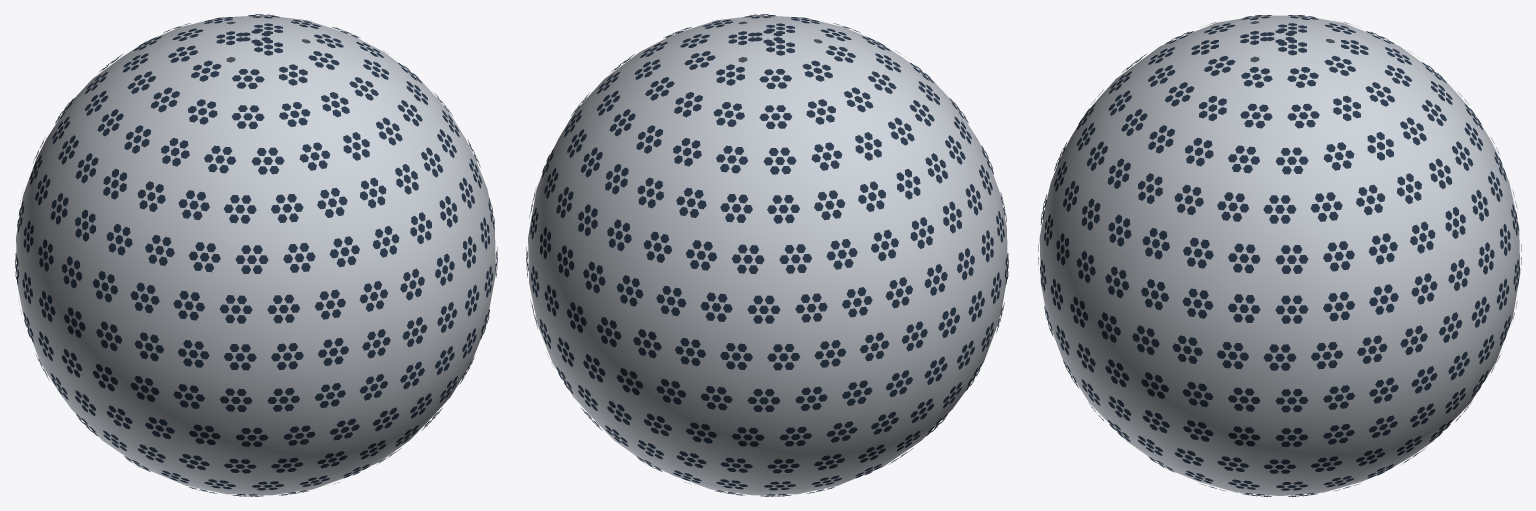
The model's file is etalon.glb.
3 renders of one model, left to right at view 1: azimuth 30°, elevation 25°; view 2: azimuth 150°, elevation 25°; view 3: azimuth 270°, elevation 25°, orthographic.
Visible parts, largest first — view 1: body, solar-panel; view 2: body, solar-panel; view 3: body, solar-panel.
Part boxes in pixels (x1,y1,x2,y2): body: (16,15,495,495); solar-panel: (15,14,497,496); body: (528,15,1007,495); solar-panel: (526,14,1008,496); body: (1039,15,1520,495); solar-panel: (1038,15,1521,496).
Size of the model in its own units: 1.3 by 1.3 by 1.3.
